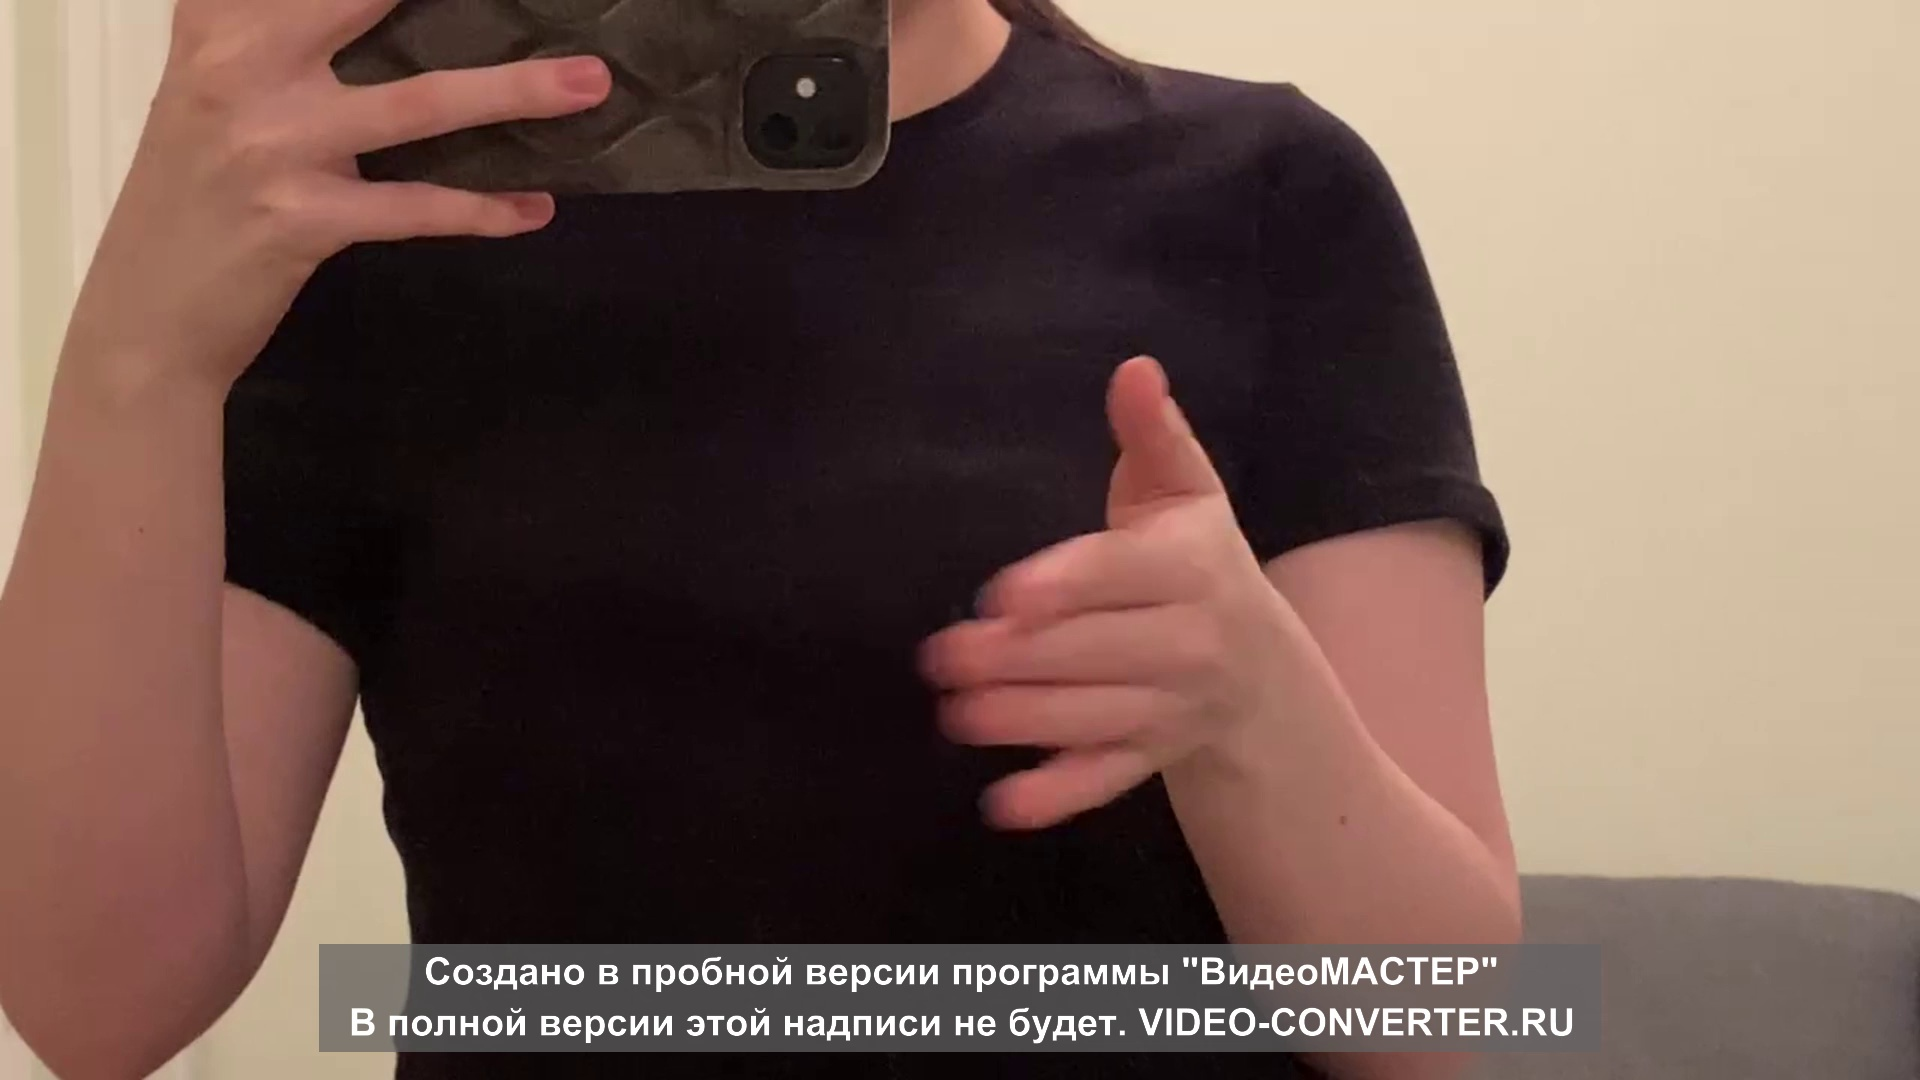Кисть: (916, 356, 1246, 831)
